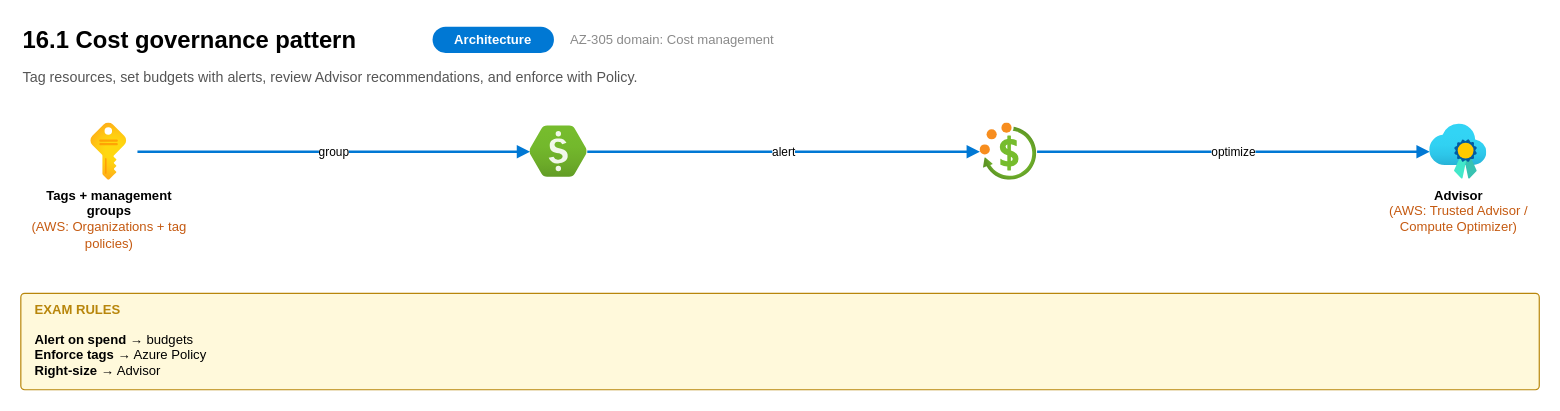
Some shapes in this 1560 by 411 pixel diagram are drawn without their labels. The shapes that lost their labels are listed below. From the top down, each one's centre as x and y in pixels, then its label:
At (558,151): "Cost Management (AWS: Cost Explorer)".
At (1007,151): "Budgets + alerts (AWS: AWS Budgets)".
